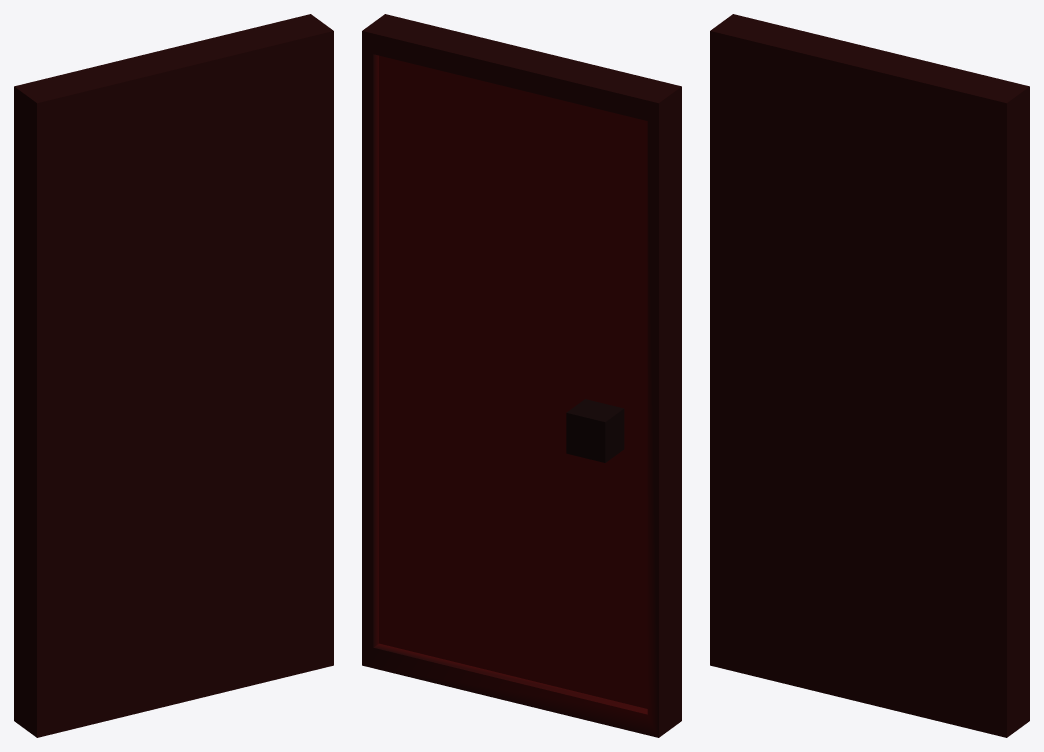
Rendered from DOOR.fbx.
The picture shows the model from 3 angles, left to right: view 1: azimuth 30°, elevation 25°; view 2: azimuth 150°, elevation 25°; view 3: azimuth 330°, elevation 25°; orthographic projection.
Visible parts, largest first — view 1: pasted__Model_Door1; view 2: pasted__Model_Door1; view 3: pasted__Model_Door1.
Part boxes in pixels (box(x1,y1,x2,y2)): pasted__Model_Door1: box(14, 14, 333, 737); pasted__Model_Door1: box(362, 14, 681, 737); pasted__Model_Door1: box(710, 14, 1029, 737).
Bounding box in the file's own units: 75.26 × 154 × 15.87.
